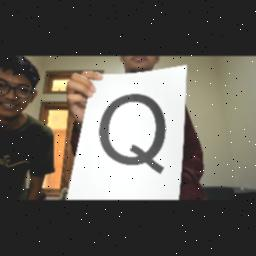q: (92, 90, 170, 178)
